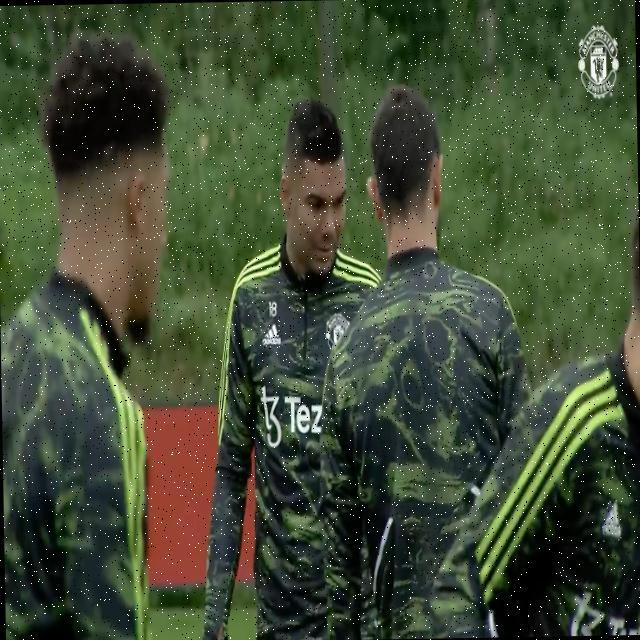Adidas: (601, 497, 622, 542), (260, 321, 281, 347)
